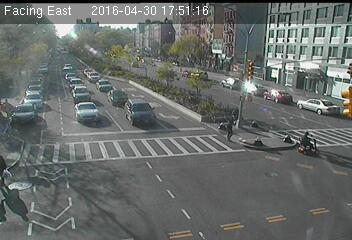neg: (294, 127, 316, 156), (77, 95, 93, 116), (215, 61, 229, 80), (296, 78, 308, 94)
pos: (224, 116, 242, 139)
